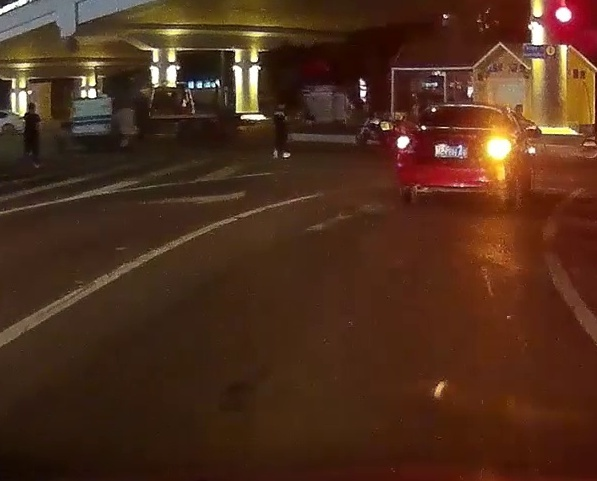L_light: (396, 134, 415, 151)
R_light: (488, 138, 510, 158)
T_light: (455, 107, 464, 111)
night-right: (389, 102, 528, 210)
